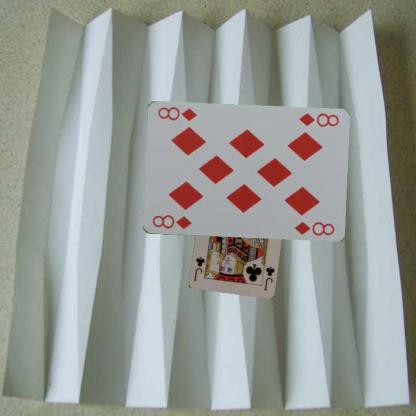8d: (149, 212, 192, 231), (296, 111, 340, 128)
Jc: (261, 263, 276, 292)
